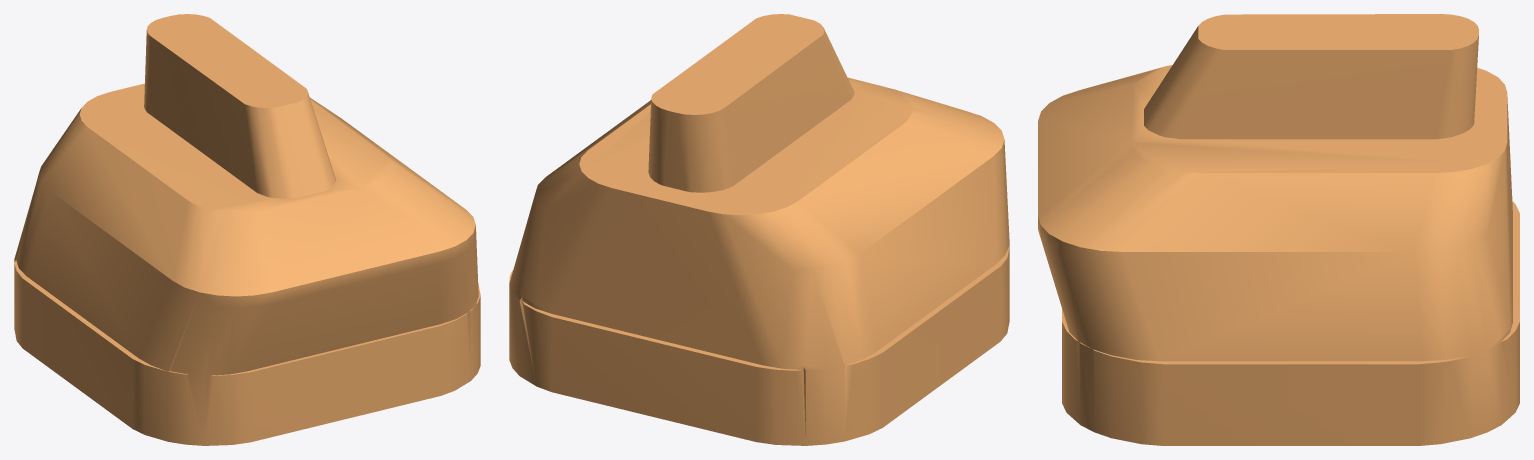
Rendered from custom_hood_crest.glb.
3 renders of one model, left to right at view 1: azimuth 30°, elevation 25°; view 2: azimuth 150°, elevation 25°; view 3: azimuth 270°, elevation 25°, orthographic. The views are drawn at different scales.
Visible parts, largest first — view 1: custom_hood_crest; view 2: custom_hood_crest; view 3: custom_hood_crest.
Boxes of the visible parts, x1,y1,x2,y2 form: custom_hood_crest: (14,14,480,445); custom_hood_crest: (509,14,1009,445); custom_hood_crest: (1038,14,1519,445).
Bounding box in the file's own units: 0.0243 × 0.0186 × 0.0256.
